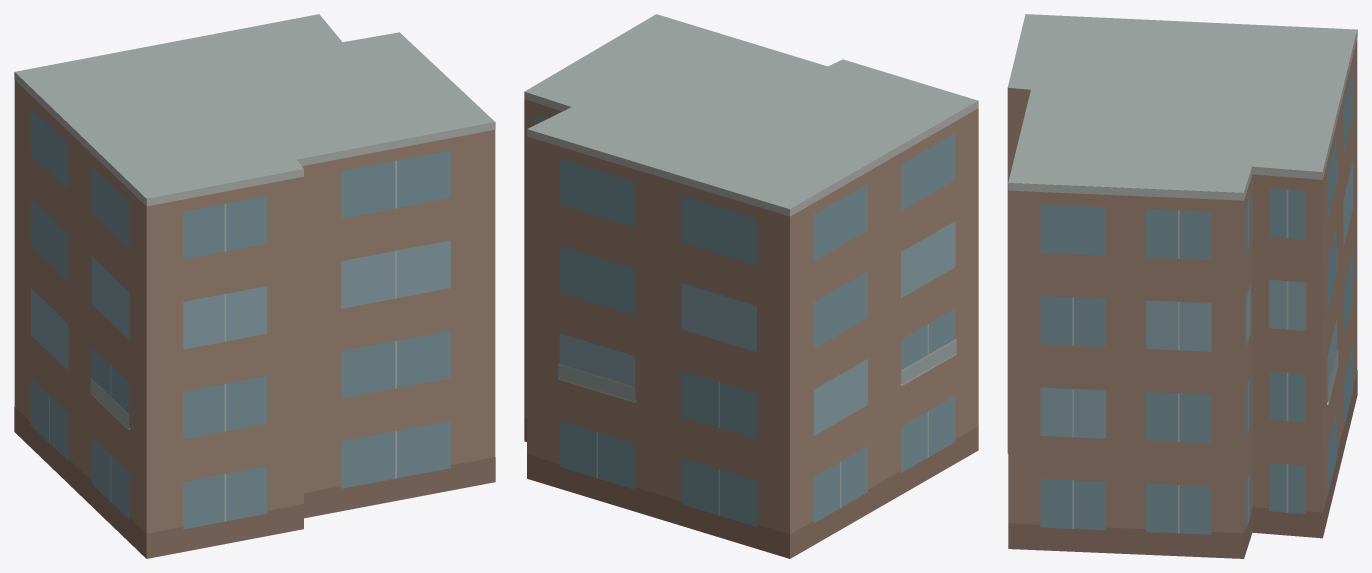
The model's file is survey-upis-32694788.glb.
3 renders of one model, left to right at view 1: azimuth 30°, elevation 25°; view 2: azimuth 150°, elevation 25°; view 3: azimuth 270°, elevation 25°, orthographic. The views are drawn at different scales.
Parts seen in each view (by area): view 1: survey-upis-32694788.tmp; view 2: survey-upis-32694788.tmp; view 3: survey-upis-32694788.tmp.
Part boxes in pixels (box(x1,y1,x2,y2)): survey-upis-32694788.tmp: box(14, 14, 495, 558); survey-upis-32694788.tmp: box(524, 14, 978, 558); survey-upis-32694788.tmp: box(1007, 14, 1357, 558).
Size of the model in its own units: 12.06 by 11.5 by 9.97.
